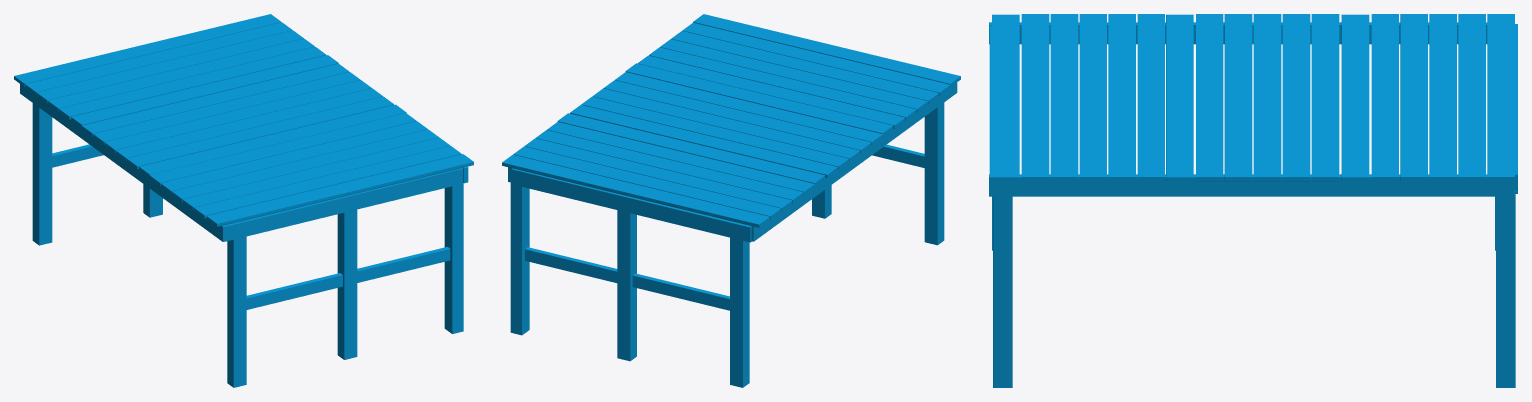
The model's file is Pier_Platform_01.fbx.
3 renders of one model, left to right at view 1: azimuth 30°, elevation 25°; view 2: azimuth 150°, elevation 25°; view 3: azimuth 270°, elevation 25°, orthographic. The views are drawn at different scales.
Visible parts, largest first — view 1: Pier_Platform_01; view 2: Pier_Platform_01; view 3: Pier_Platform_01.
Boxes of the visible parts, bbox=[...] form: Pier_Platform_01: bbox=[14, 14, 473, 387]; Pier_Platform_01: bbox=[502, 14, 960, 387]; Pier_Platform_01: bbox=[989, 14, 1517, 387].
Bounding box in the file's own units: 482 × 301 × 662.
